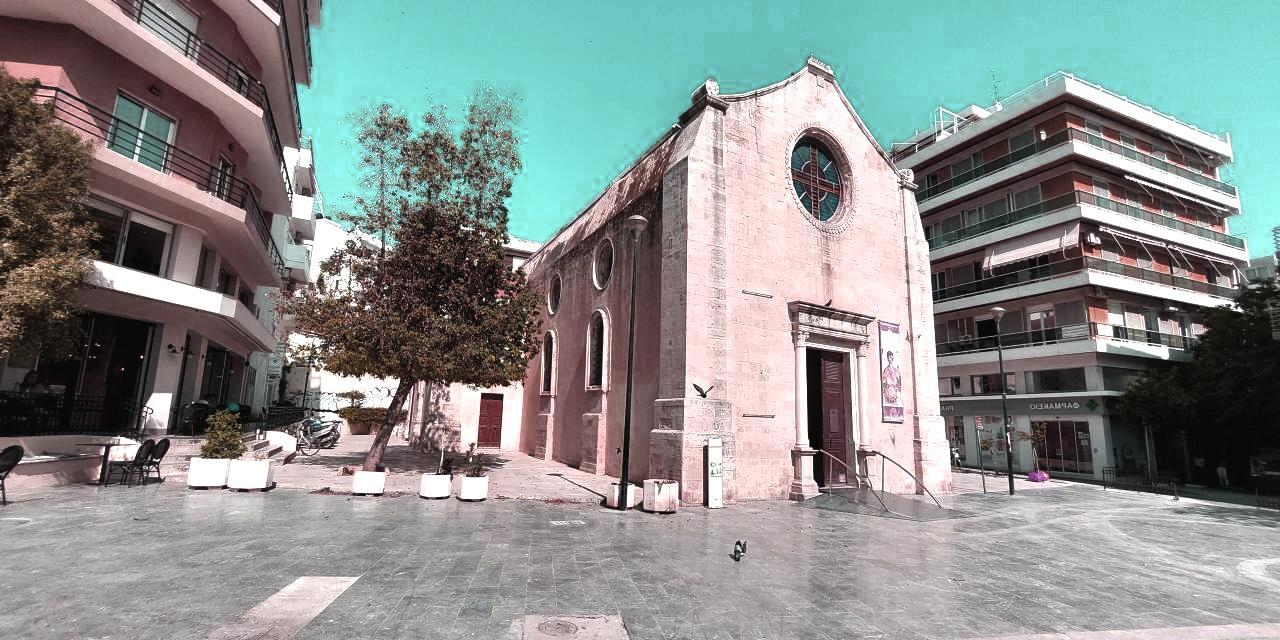Agia Aikaterini: (508, 51, 965, 505)
